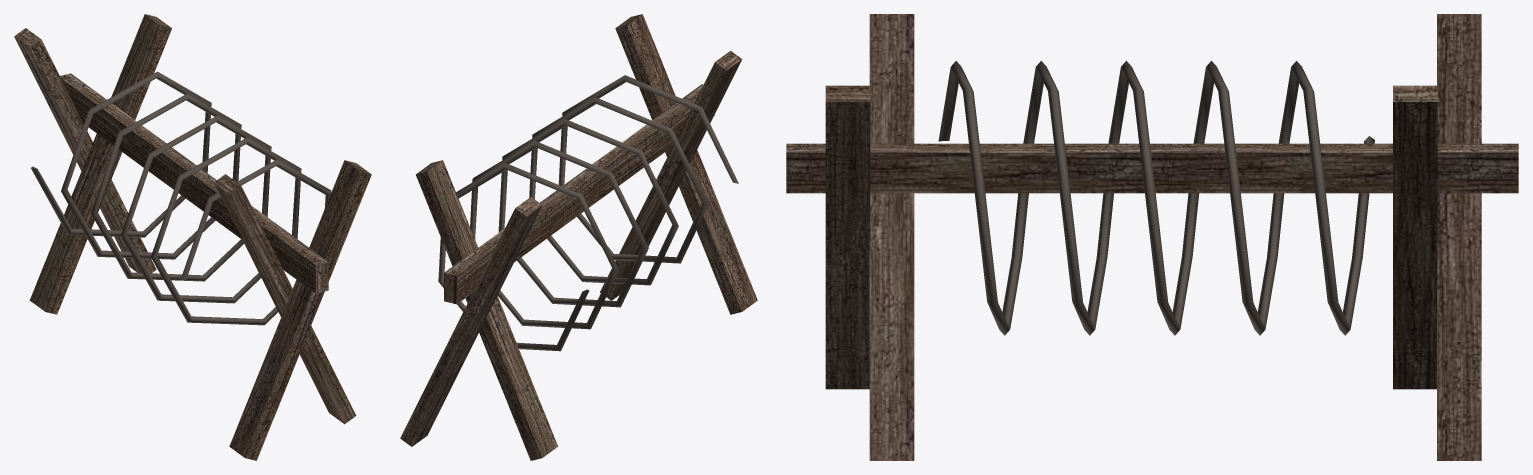
File: Fence_parts.fbx
3 renders of one model, left to right at view 1: azimuth 30°, elevation 25°; view 2: azimuth 150°, elevation 25°; view 3: azimuth 270°, elevation 25°, orthographic. The views are drawn at different scales.
Visible parts, largest first — view 1: Fence_wire, FEnce_beam.004, FEnce_beam.001, FEnce_beam.003, FEnce_beam, FEnce_beam.002; view 2: Fence_wire, FEnce_beam.003, FEnce_beam.001, FEnce_beam.004, FEnce_beam.002, FEnce_beam; view 3: FEnce_beam.001, Fence_wire, FEnce_beam, FEnce_beam.002, FEnce_beam.004, FEnce_beam.003.
Part boxes in pixels (x1=…): Fence_wire: x1=31, y1=71, x2=331, y2=325; FEnce_beam.004: x1=229, y1=160, x2=371, y2=460; FEnce_beam.001: x1=60, y1=73, x2=328, y2=293; FEnce_beam.003: x1=29, y1=14, x2=171, y2=314; FEnce_beam: x1=214, y1=174, x2=356, y2=424; FEnce_beam.002: x1=14, y1=28, x2=156, y2=273; Fence_wire: x1=438, y1=75, x2=738, y2=351; FEnce_beam.003: x1=415, y1=160, x2=557, y2=460; FEnce_beam.001: x1=444, y1=84, x2=714, y2=304; FEnce_beam.004: x1=615, y1=14, x2=757, y2=314; FEnce_beam.002: x1=400, y1=197, x2=542, y2=446; FEnce_beam: x1=600, y1=50, x2=742, y2=300; FEnce_beam.001: x1=786, y1=143, x2=1518, y2=193; Fence_wire: x1=938, y1=60, x2=1374, y2=335; FEnce_beam: x1=869, y1=14, x2=914, y2=460; FEnce_beam.002: x1=1437, y1=14, x2=1481, y2=460; FEnce_beam.004: x1=825, y1=85, x2=870, y2=389; FEnce_beam.003: x1=1393, y1=85, x2=1437, y2=389.
Size of the model in its own units: 94.81 by 146 by 258.
